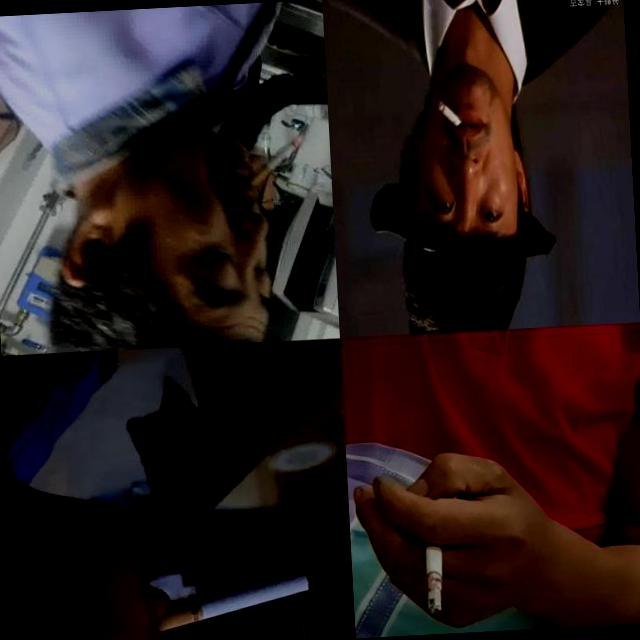smoke: (155, 572, 314, 633), (245, 134, 306, 192), (424, 527, 446, 614), (438, 100, 467, 134)
